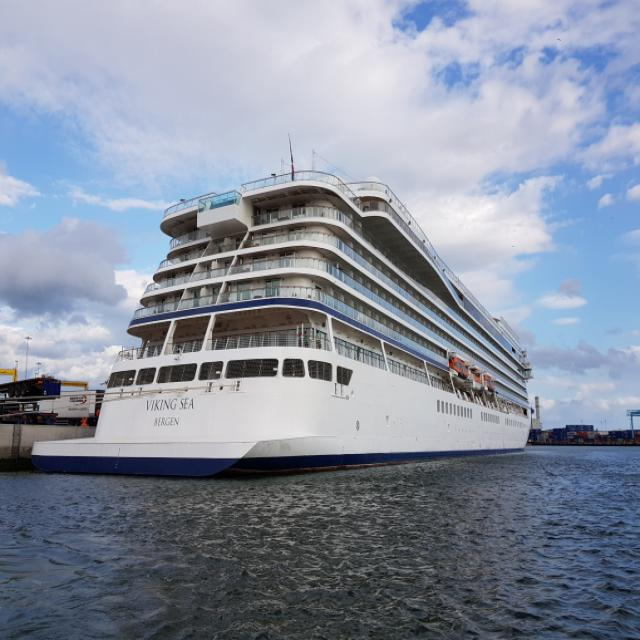cruises: (28, 161, 536, 489)
